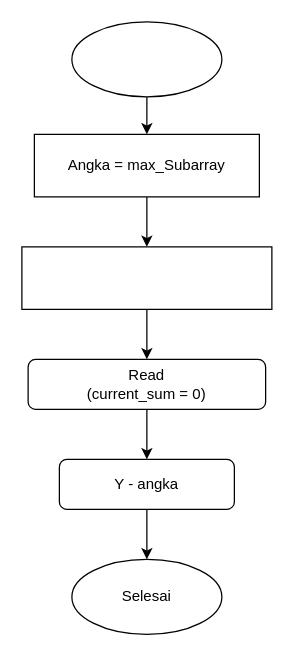
Some shapes in this 294 by 656 pixel diagram are drawn without their labels. Each missing label, with the box of its shape:
Mulai: (71, 21, 222, 97)
Write Temukan nilai max: (21, 246, 272, 309)
